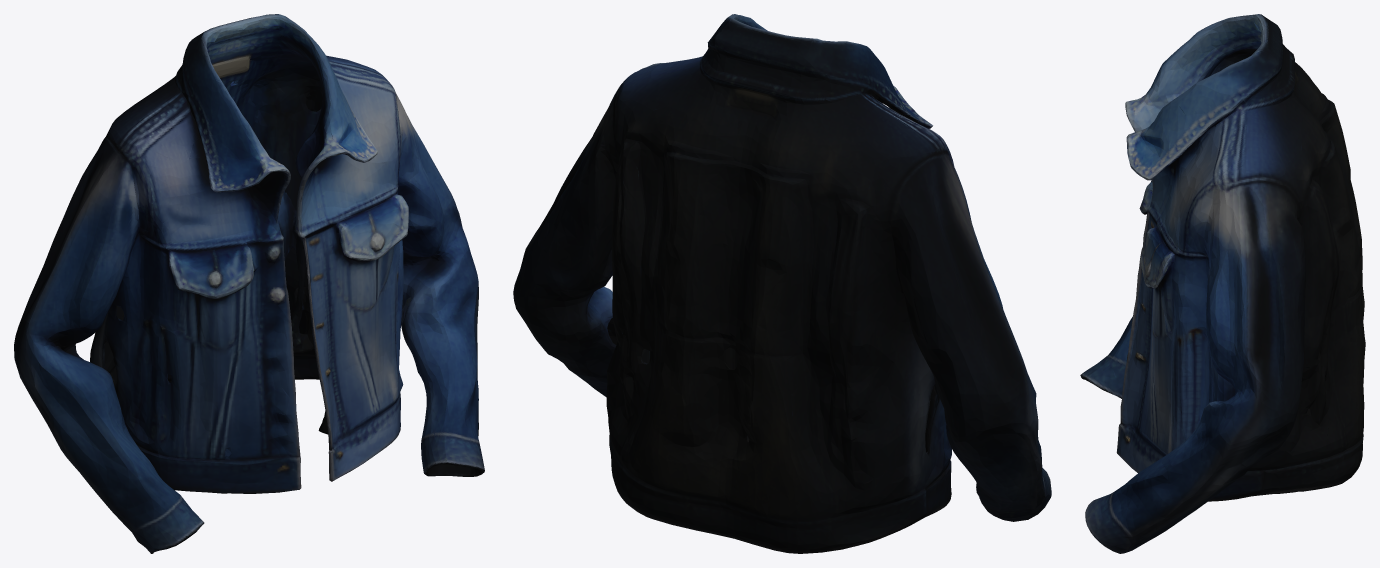
Rendered from jeans-shirt.glb.
3 renders of one model, left to right at view 1: azimuth 30°, elevation 25°; view 2: azimuth 150°, elevation 25°; view 3: azimuth 270°, elevation 25°, orthographic. The views are drawn at different scales.
Parts seen in each view (by area): view 1: world; view 2: world; view 3: world.
Part boxes in pixels (x1=…): world: x1=14, y1=14, x2=484, y2=553; world: x1=513, y1=14, x2=1051, y2=553; world: x1=1080, y1=14, x2=1365, y2=553.
Bounding box in the file's own units: 0.9986 × 0.9506 × 0.5536.
Materials: 1 (1 with a texture image).
